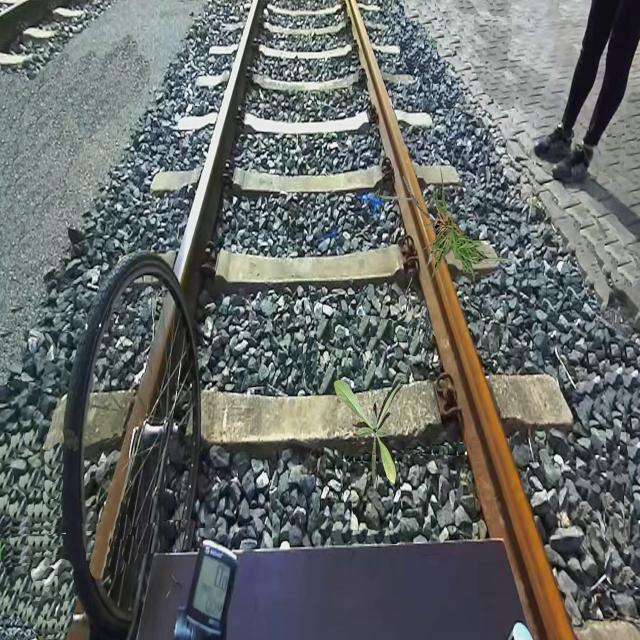Plant: (379, 165, 522, 284), (334, 378, 406, 486)
